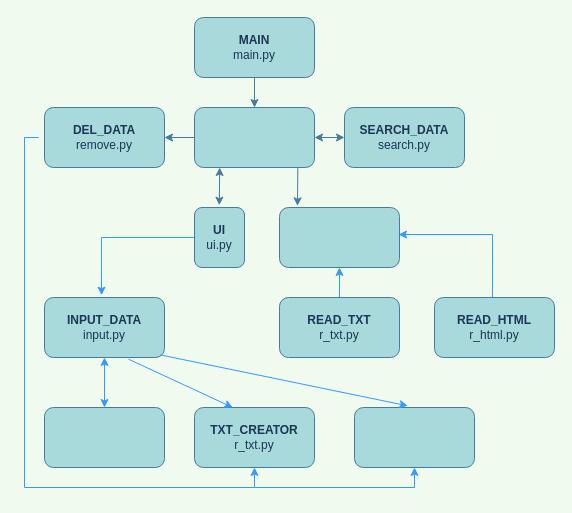
Image size: 572x513. Some labels were removed from this diagram. The shapes that lost their labels are listed below. From the top down, each one's centre as x and y in pixels, then its label:
At point (254, 137): "CONTROLLER controller.py".
At point (339, 237): "PRINT_DATA print.py".
At point (104, 437): "INPUT_CHECK check.py".
At point (414, 437): "HTML_creator r_html.py".
